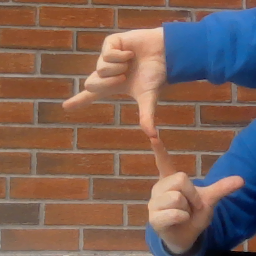Z: (60, 25, 246, 237)
